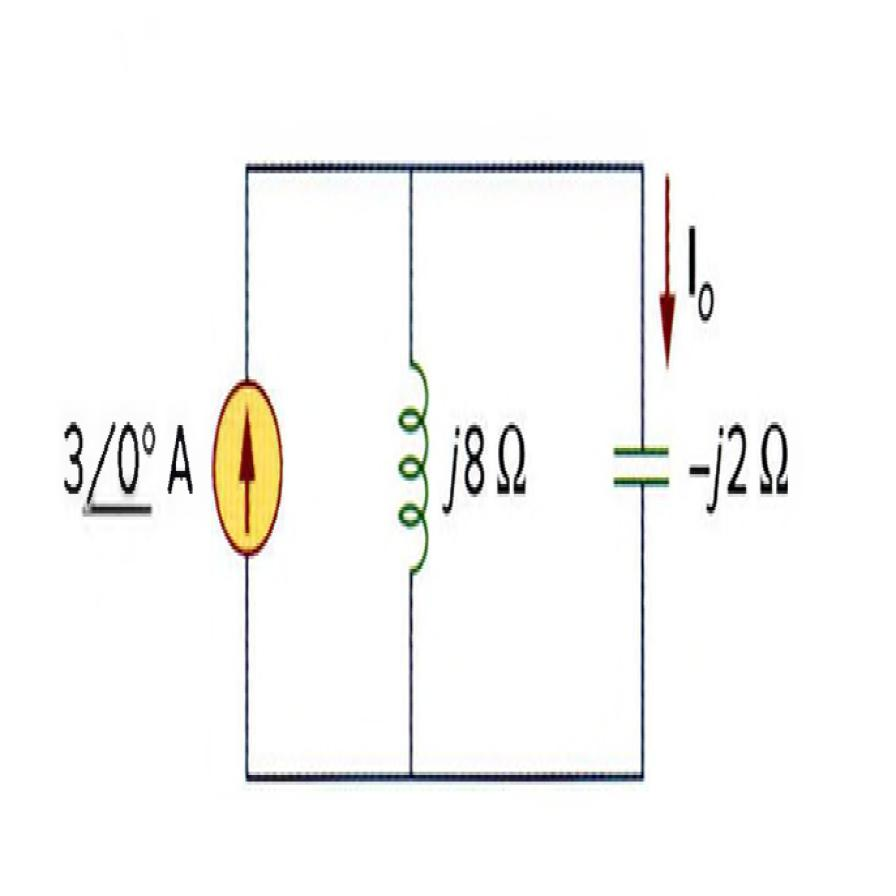C2: (604, 402, 681, 552)
I1: (205, 351, 289, 570)
L2: (388, 331, 439, 602)
